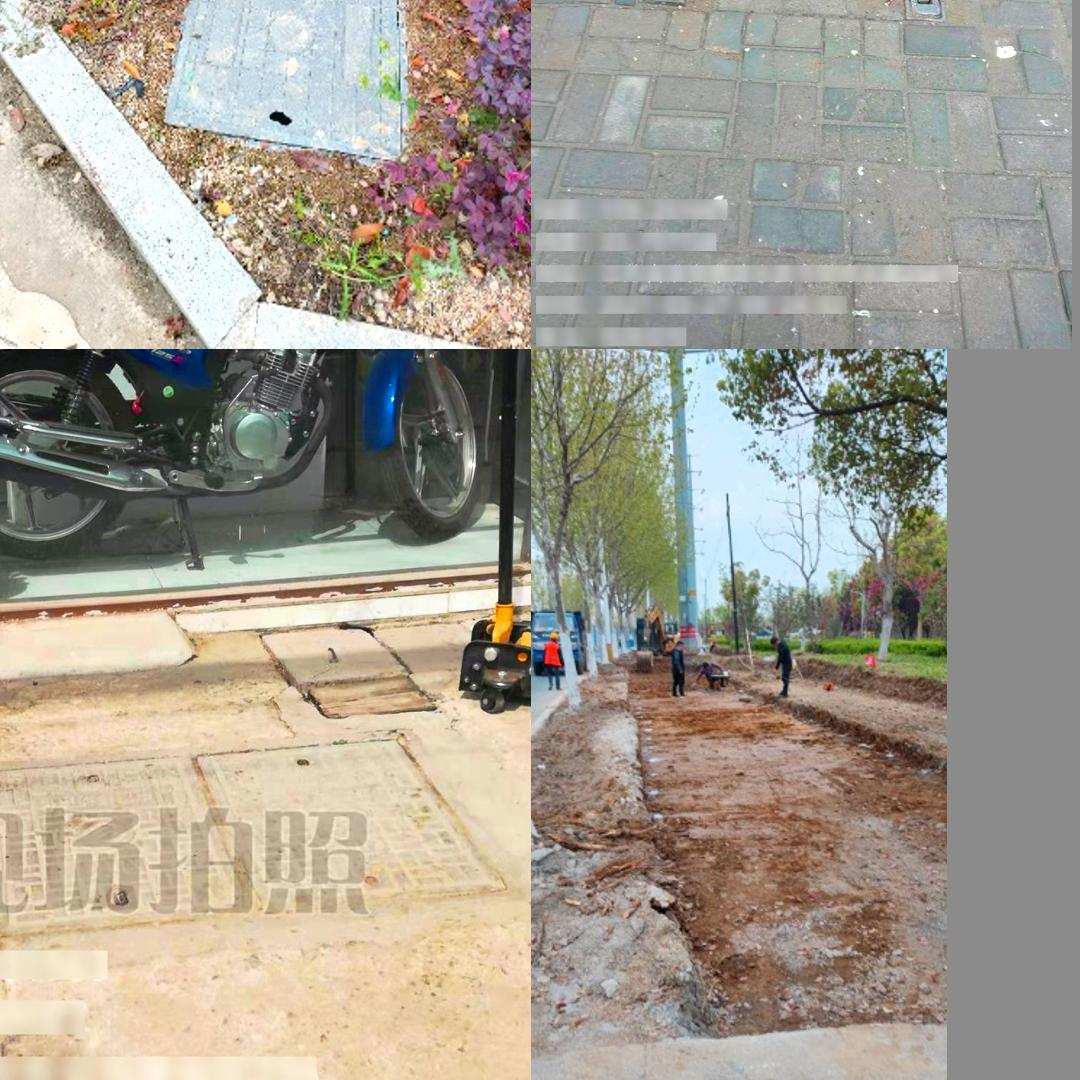good: (0, 751, 505, 939), (161, 0, 403, 157), (567, 1073, 935, 1080)
